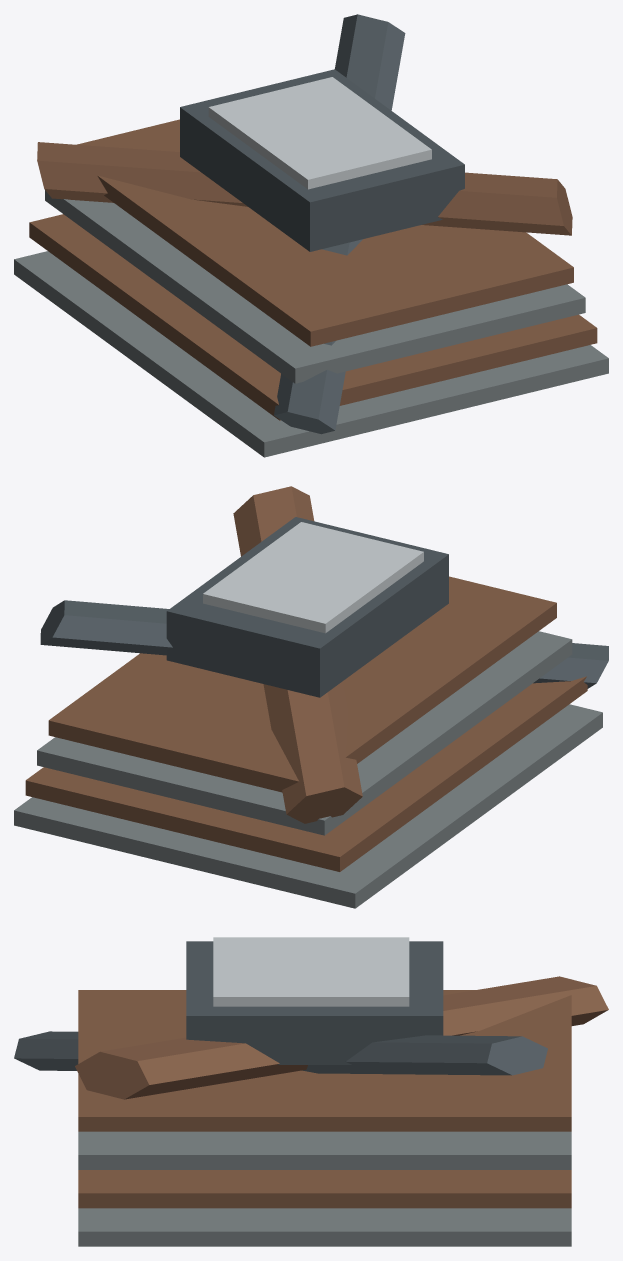
File: scrap_stack.glb
The picture shows the model from 3 angles, top to bottom: view 1: azimuth 30°, elevation 25°; view 2: azimuth 150°, elevation 25°; view 3: azimuth 270°, elevation 25°; orthographic projection.
Visible parts, largest first — view 1: scrap_stack; view 2: scrap_stack; view 3: scrap_stack.
Boxes of the visible parts, x1,y1,x2,y2 form: scrap_stack: (14, 14, 608, 457); scrap_stack: (14, 486, 608, 908); scrap_stack: (14, 937, 608, 1246).
Bounding box in the file's own units: 2 × 1.1 × 3.
